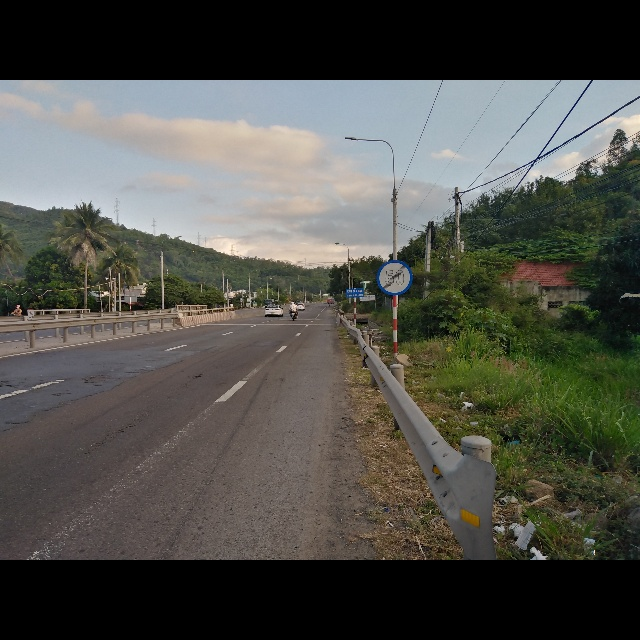Hết hạn chế tốc độ tối đa 50km/h: (376, 259, 412, 295)
